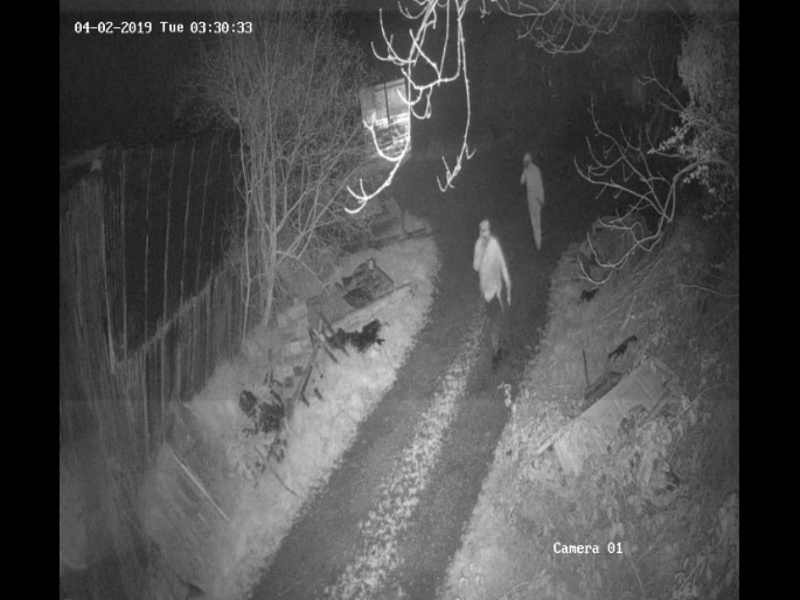person: (465, 211, 521, 369), (510, 148, 552, 255)
